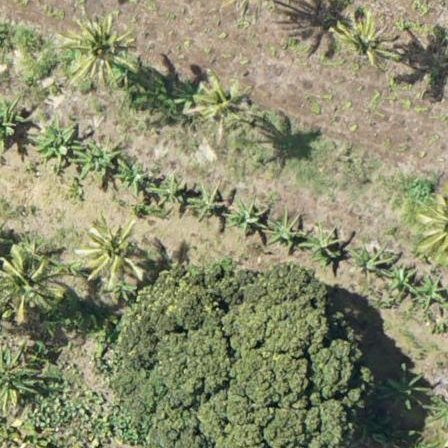palm_tree: (75, 209, 150, 289), (1, 241, 66, 323), (70, 13, 135, 83), (329, 7, 393, 75), (191, 70, 255, 137)
